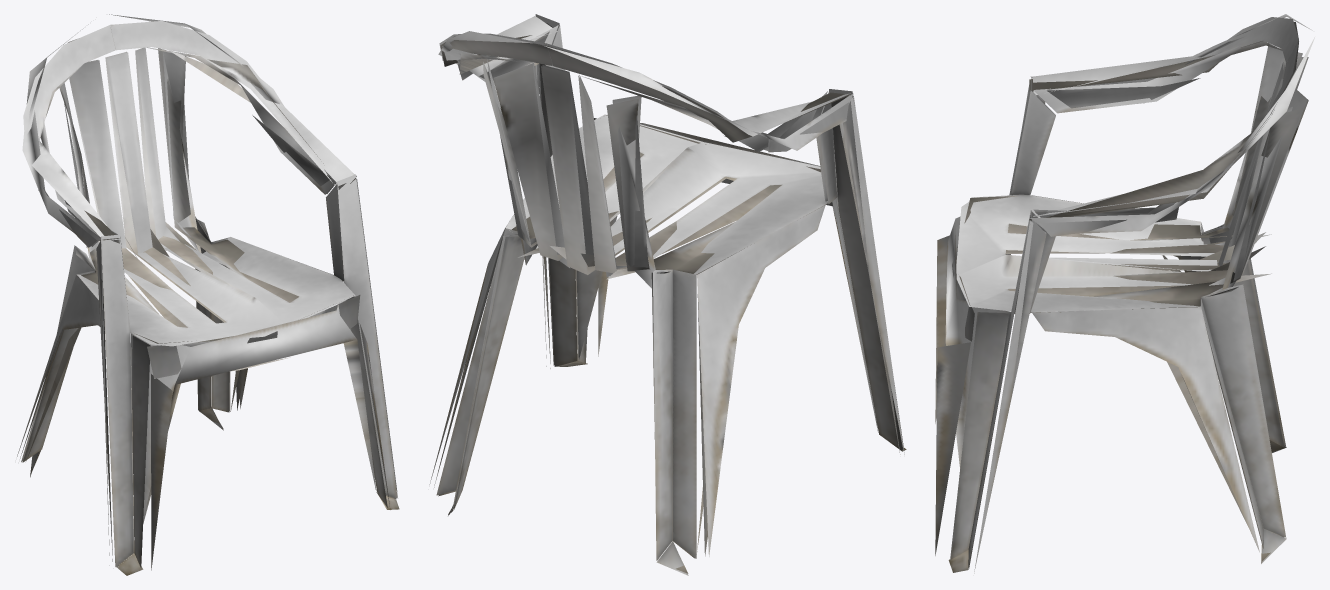
The model's file is Chair_Plastic.fbx.
3 views of the same model, side by side, from view 1: azimuth 30°, elevation 25°; view 2: azimuth 150°, elevation 25°; view 3: azimuth 270°, elevation 25° (orthographic). The views are drawn at different scales.
Visible parts, largest first — view 1: стул пластиковый; view 2: стул пластиковый; view 3: стул пластиковый.
Boxes of the visible parts, <box> form: стул пластиковый: <box>17,14,399,575</box>; стул пластиковый: <box>429,14,906,575</box>; стул пластиковый: <box>935,14,1314,573</box>.
Size of the model in its own units: 0.6556 by 0.9172 by 0.6627.
Materials: 1 (1 with a texture image).
